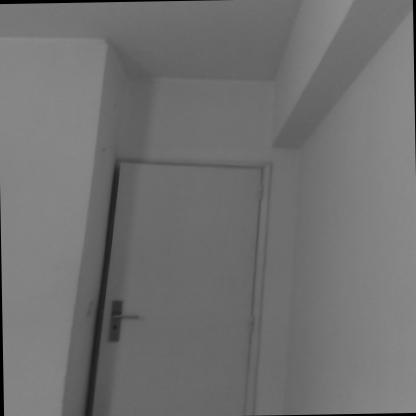closed: (88, 142, 292, 413)
